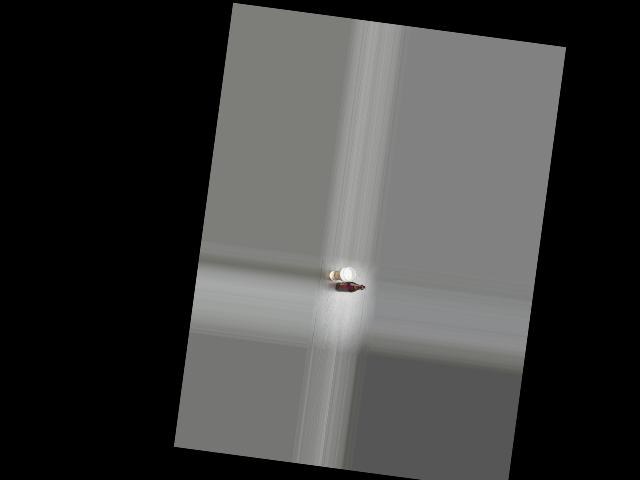beer: (333, 279, 365, 295)
